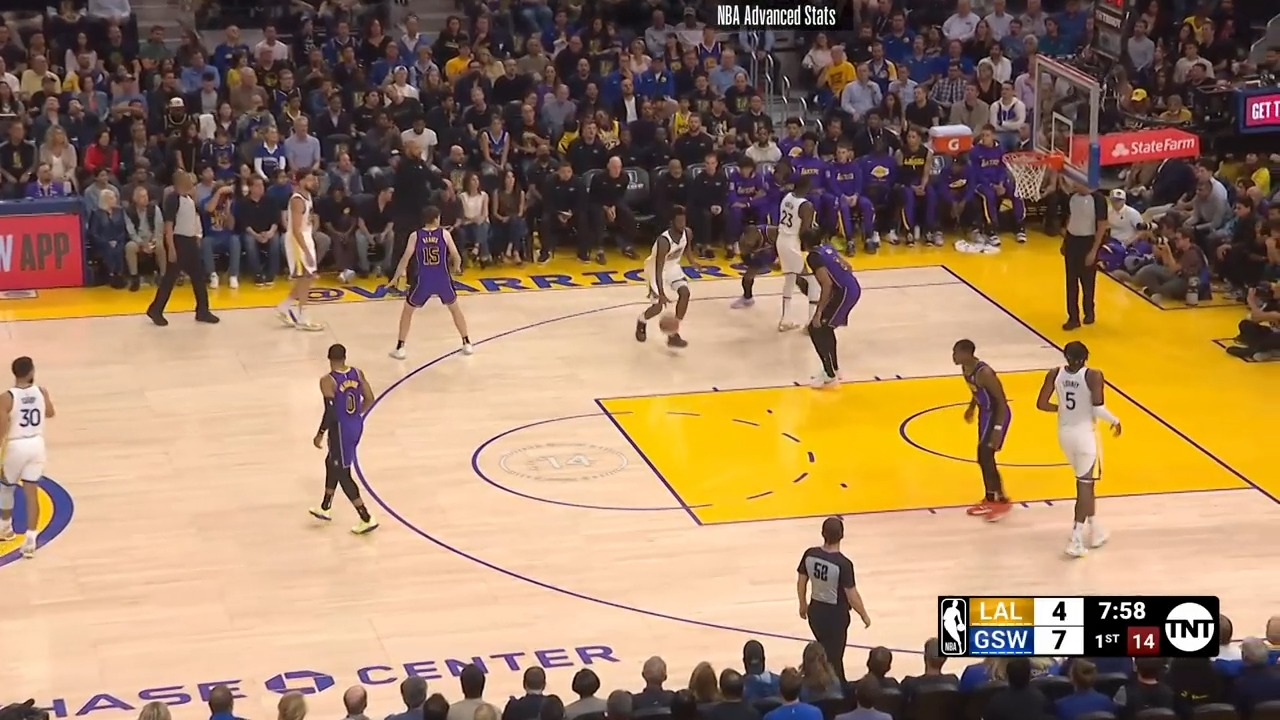net: (1001, 144, 1065, 196)
player: (1043, 337, 1130, 560), (305, 340, 382, 541), (385, 205, 479, 361), (946, 333, 1019, 520), (787, 224, 867, 390), (0, 350, 58, 546), (639, 209, 710, 351), (275, 169, 325, 332), (729, 223, 814, 316), (776, 171, 816, 336)
referee: (142, 163, 223, 332), (793, 512, 878, 670), (1039, 145, 1106, 338)
